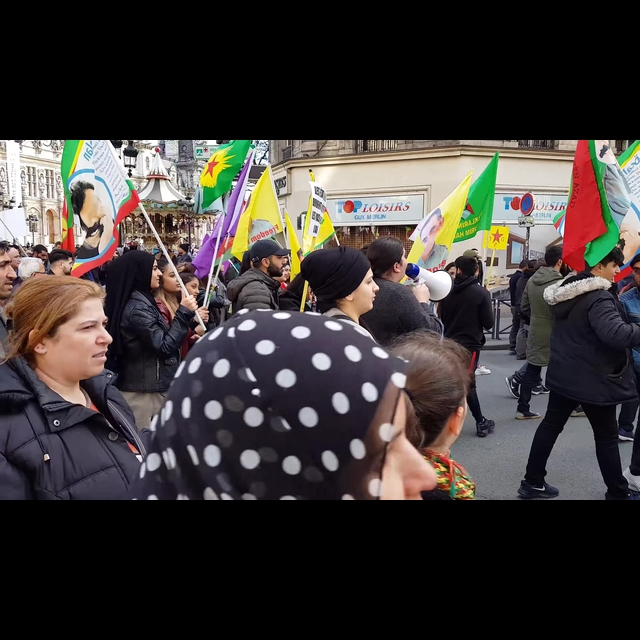KCK: (193, 147, 236, 186)
